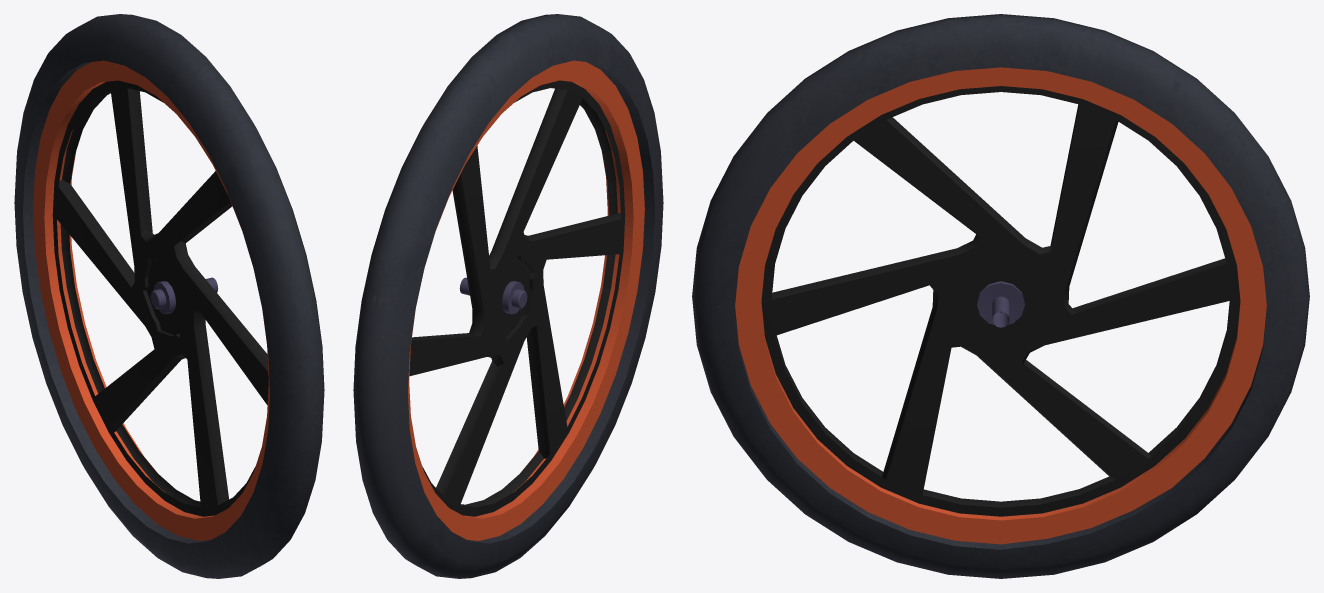
Rendered from whe_#2_delantera_derecha.fbx.
3 renders of one model, left to right at view 1: azimuth 30°, elevation 25°; view 2: azimuth 150°, elevation 25°; view 3: azimuth 270°, elevation 25°, orthographic. The views are drawn at different scales.
Visible parts, largest first — view 1: whe_#2_delantera_derecha; view 2: whe_#2_delantera_derecha; view 3: whe_#2_delantera_derecha.
Part boxes in pixels (box(x1,y1,x2,y2)): whe_#2_delantera_derecha: box(14, 14, 324, 578); whe_#2_delantera_derecha: box(353, 14, 663, 578); whe_#2_delantera_derecha: box(692, 14, 1309, 578).
Bounding box in the file's own units: 10.98 × 81.32 × 81.32.
